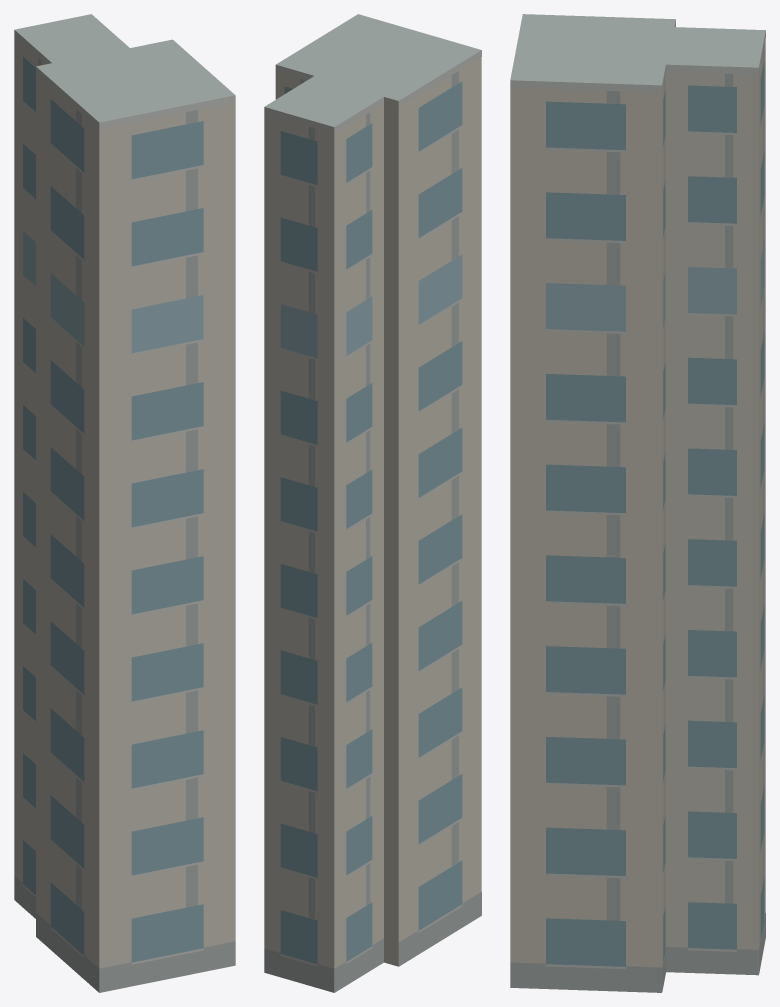
Rendered from survey-upis-32836700.glb.
3 renders of one model, left to right at view 1: azimuth 30°, elevation 25°; view 2: azimuth 150°, elevation 25°; view 3: azimuth 270°, elevation 25°, orthographic. The views are drawn at different scales.
Parts seen in each view (by area): view 1: survey-upis-32836700.tmp; view 2: survey-upis-32836700.tmp; view 3: survey-upis-32836700.tmp.
Boxes of the visible parts, x1=… form: survey-upis-32836700.tmp: x1=14, y1=14, x2=235, y2=992; survey-upis-32836700.tmp: x1=264, y1=14, x2=481, y2=992; survey-upis-32836700.tmp: x1=510, y1=14, x2=765, y2=992.
Bounding box in the file's own units: 5.16 × 30.5 × 7.8.
